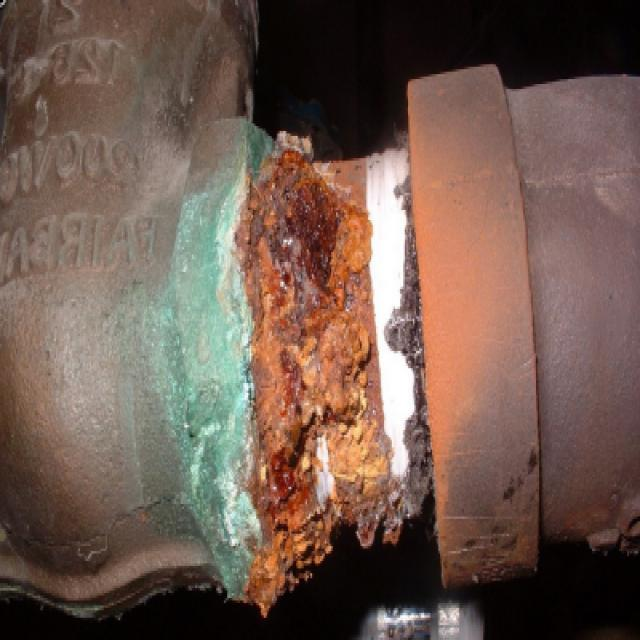Corrosion: (242, 133, 388, 614)
